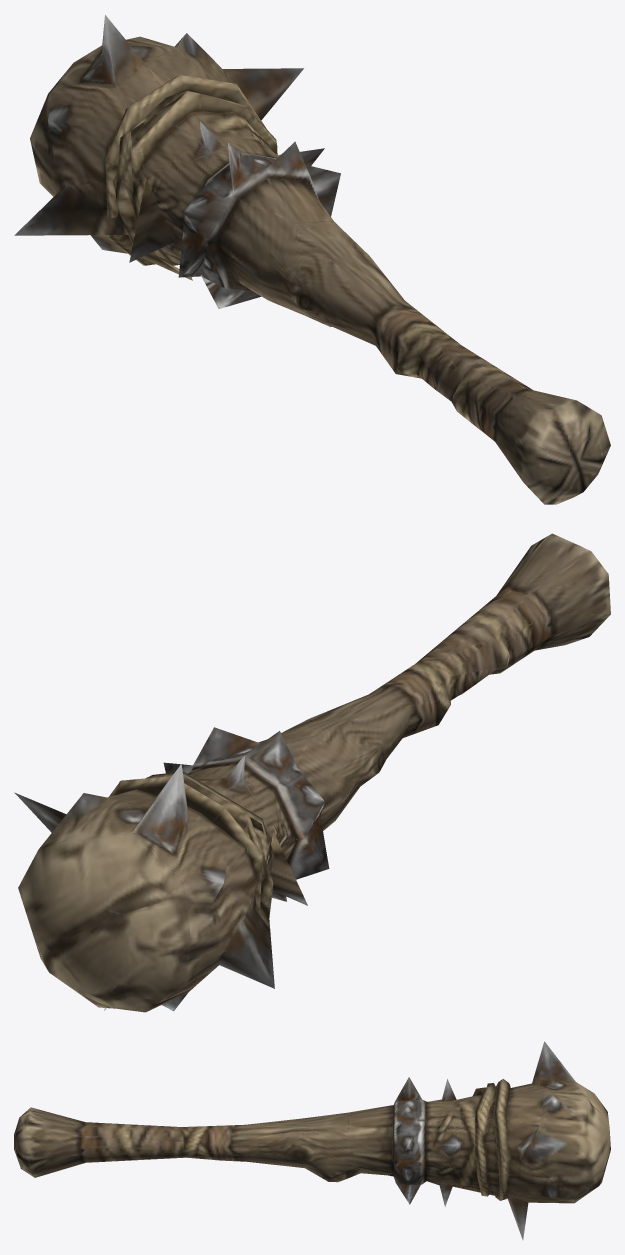
The model's file is weapon_troll_club.glb.
3 views of the same model, one above another, from view 1: azimuth 30°, elevation 25°; view 2: azimuth 150°, elevation 25°; view 3: azimuth 270°, elevation 25° (orthographic). The views are drawn at different scales.
Size of the model in its own units: 0.4562 by 0.4447 by 1.4.
Materials: 1 (1 with a texture image).
